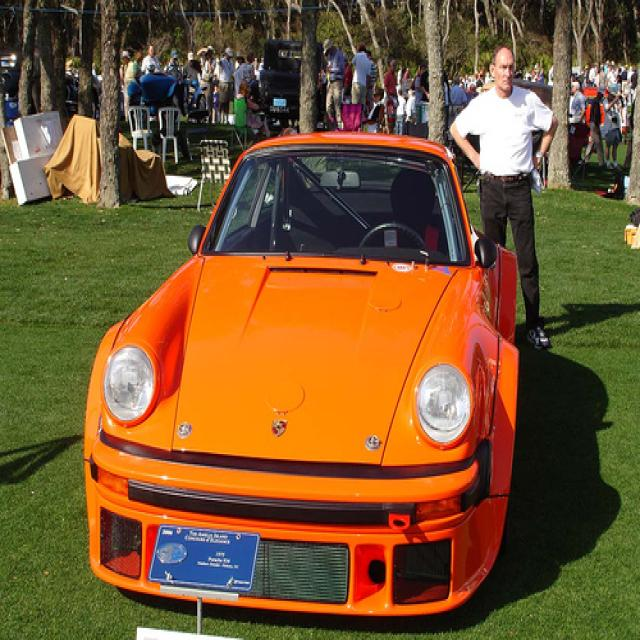light_vehicle: (82, 125, 517, 609)
